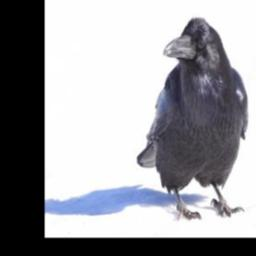Crow: (134, 14, 248, 220)
